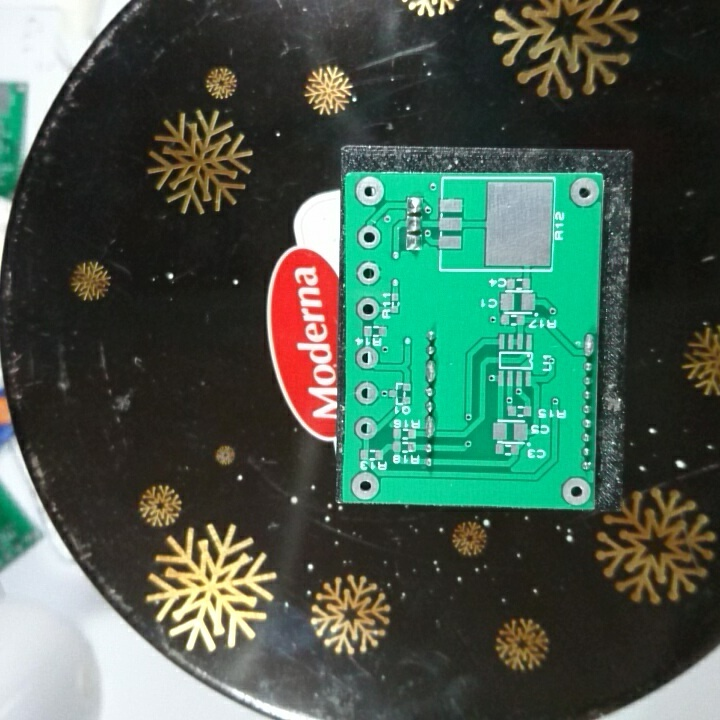F: (568, 175, 600, 212), (348, 468, 382, 500), (559, 475, 593, 506), (354, 174, 385, 207), (354, 341, 381, 373), (354, 223, 382, 252), (354, 378, 380, 407), (356, 259, 382, 286), (354, 295, 380, 321), (353, 414, 377, 441)
P: (423, 358, 439, 386), (581, 332, 596, 360), (424, 415, 438, 439)
